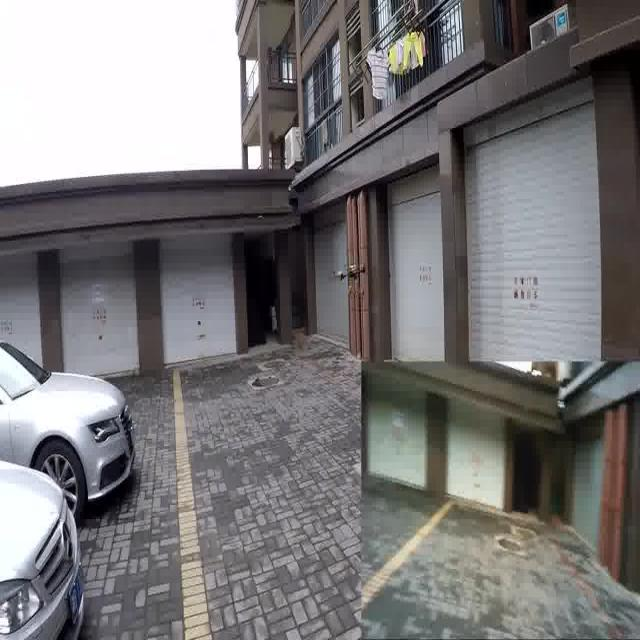drones: (326, 258, 368, 290)
